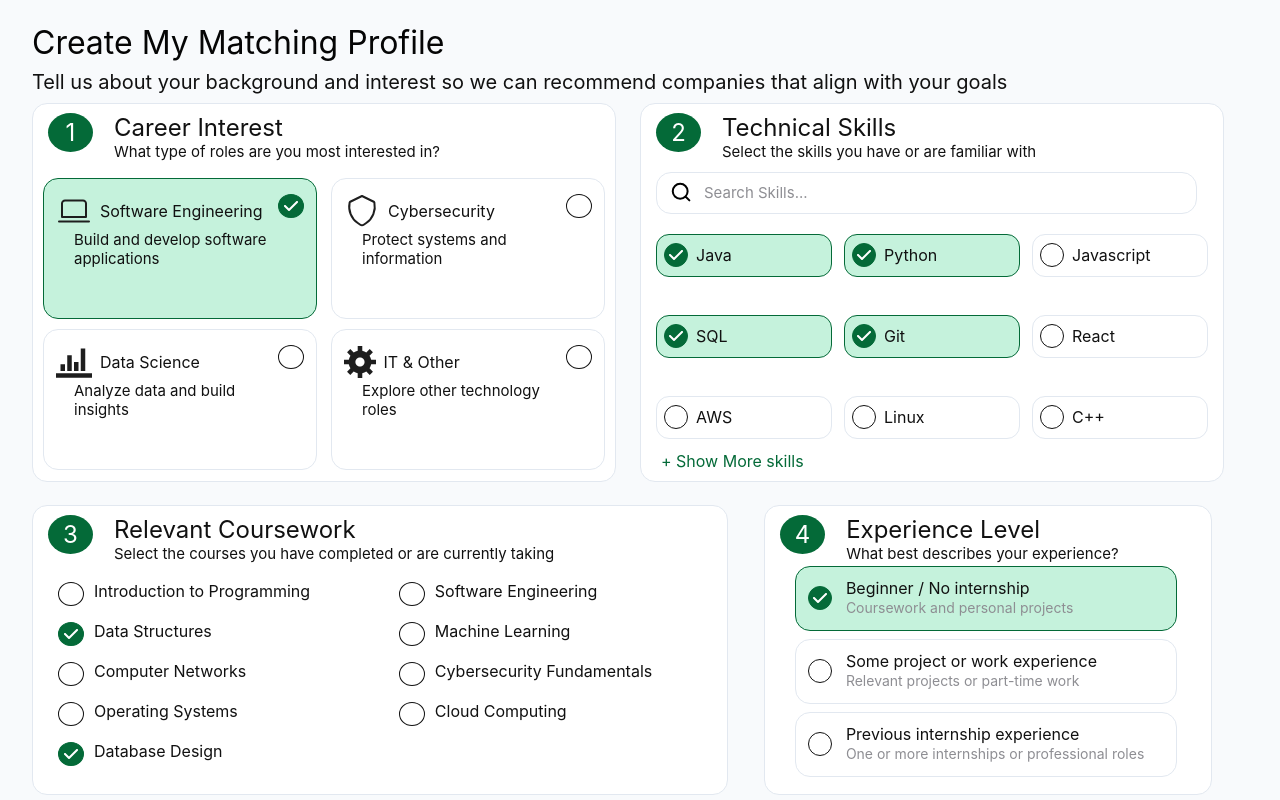
Scenario: MatchingProfile › allows selecting one career interest and experience level
Check: the heading "Create My Matching Profile" is shown, box left=32, top=23, right=444, bottom=62
Click the radio button labelled "Cybersecurity Protect systems and information".
click(468, 248)  # box left=331, top=178, right=605, bottom=319
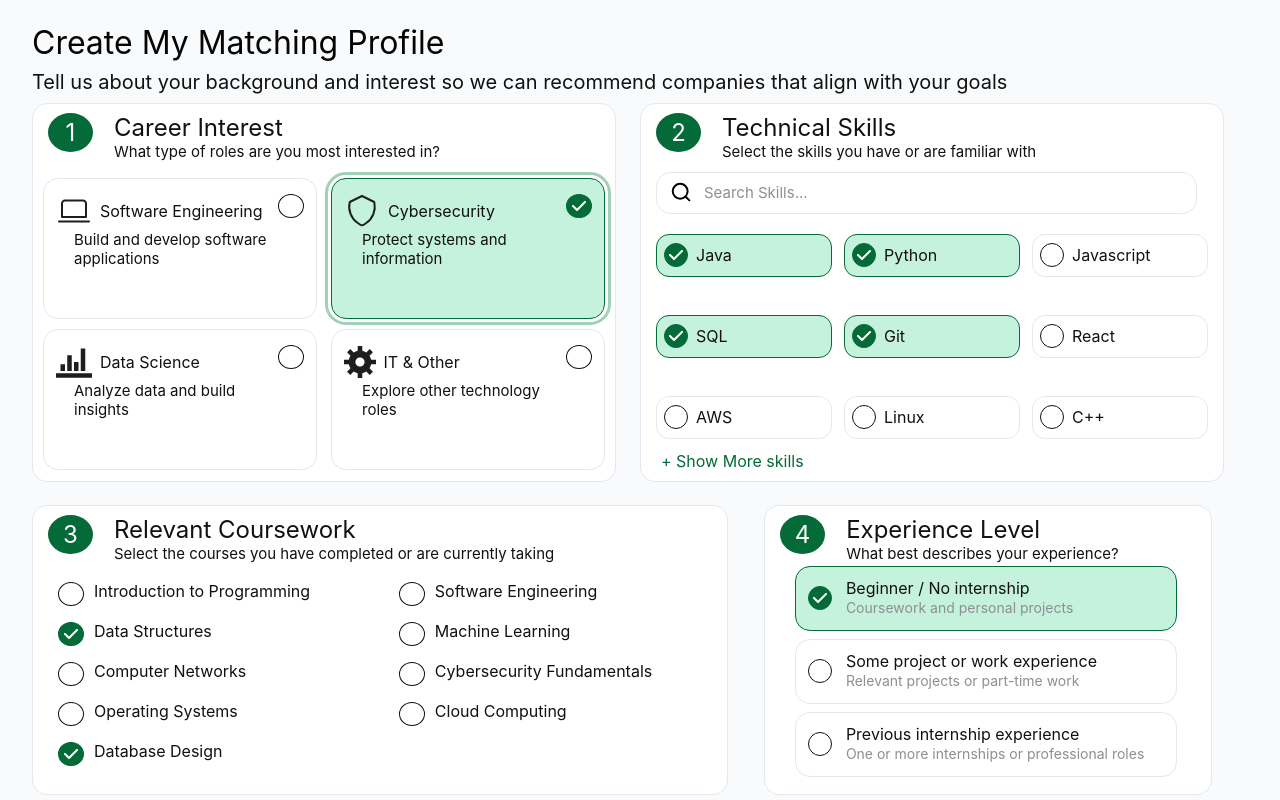
Check: the radio button labelled "Cybersecurity Protect systems and information" is checked, box left=331, top=178, right=605, bottom=319
Check: the radio button labelled "Software Engineering Build and develop software applications" is not checked, box left=43, top=178, right=317, bottom=319
Click the radio button labelled "Previous internship experience".
click(986, 744)  # box left=795, top=712, right=1177, bottom=777
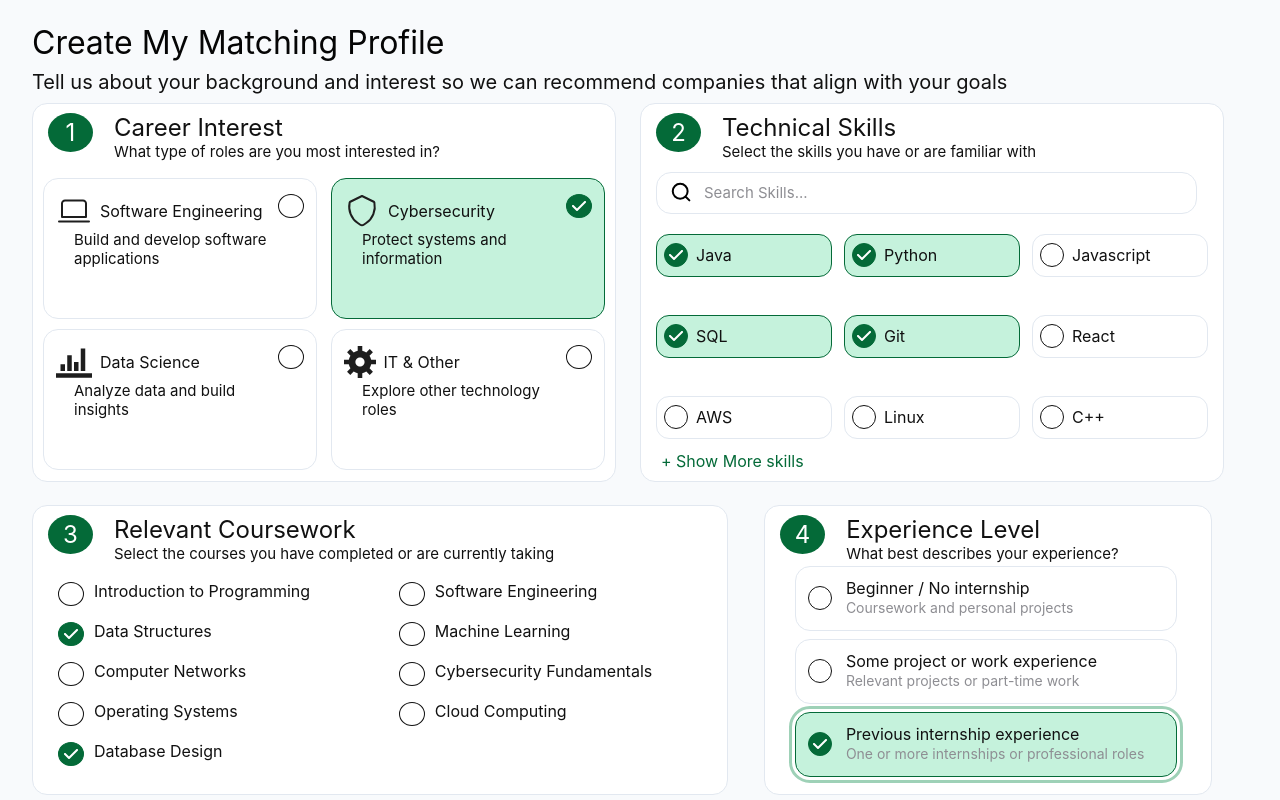
Check: the radio button labelled "Previous internship experience" is checked, box left=795, top=712, right=1177, bottom=777
Check: the radio button labelled "Beginner / No internship Coursework and personal projects" is not checked, box left=795, top=566, right=1177, bottom=631
